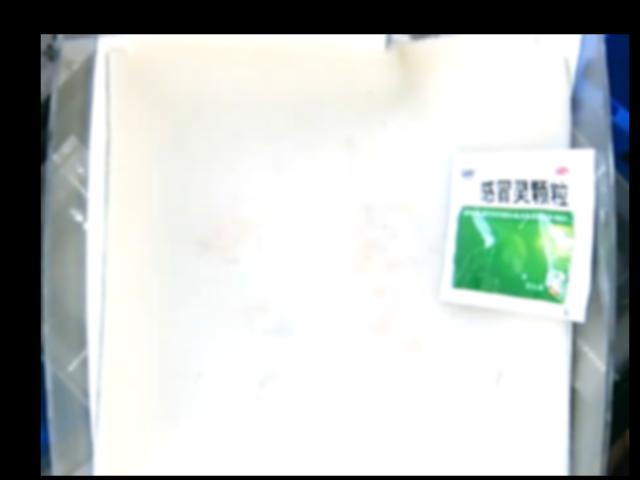Medicine: (434, 145, 598, 319)
